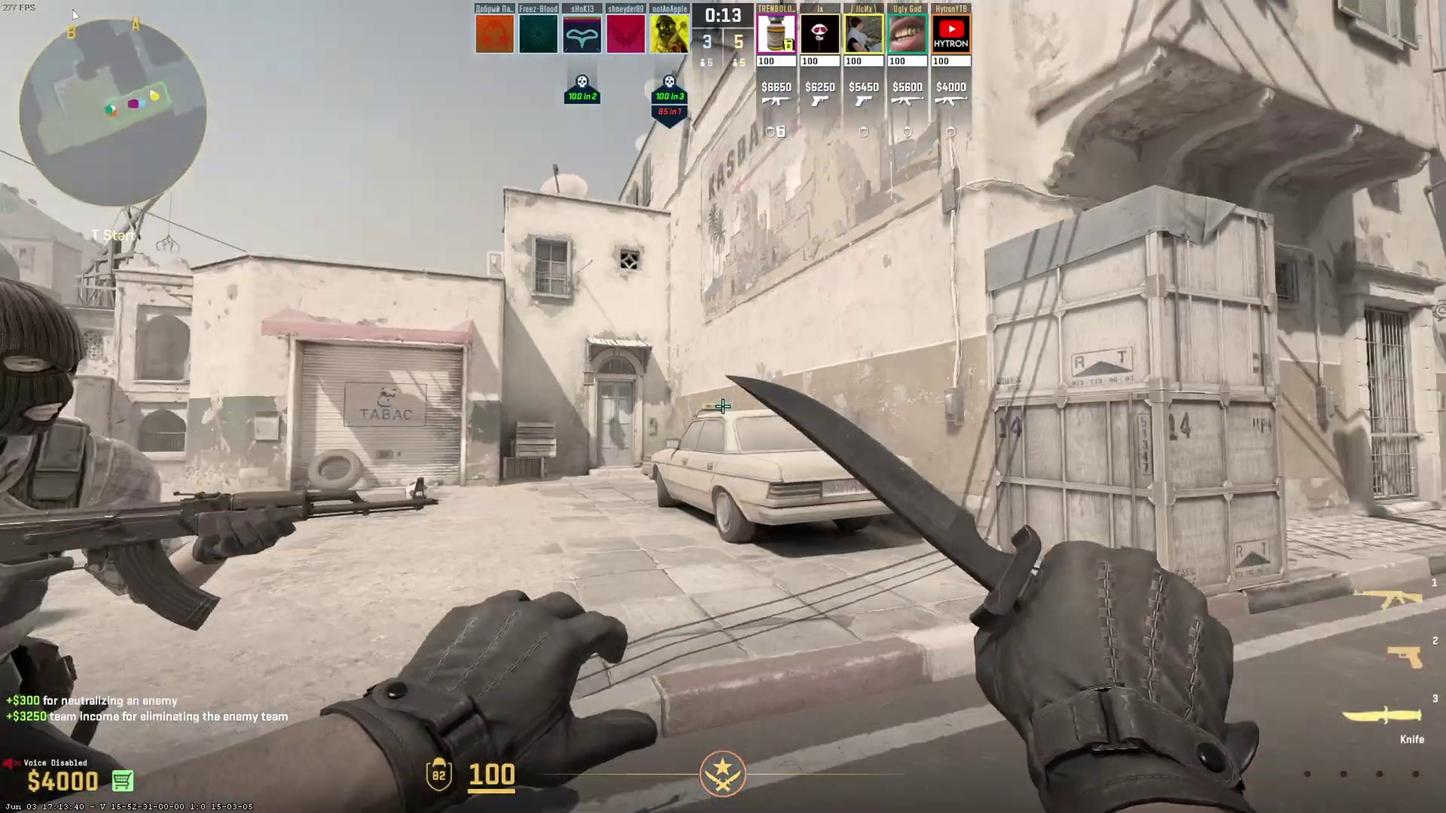Terrorist: (0, 276, 178, 787)
